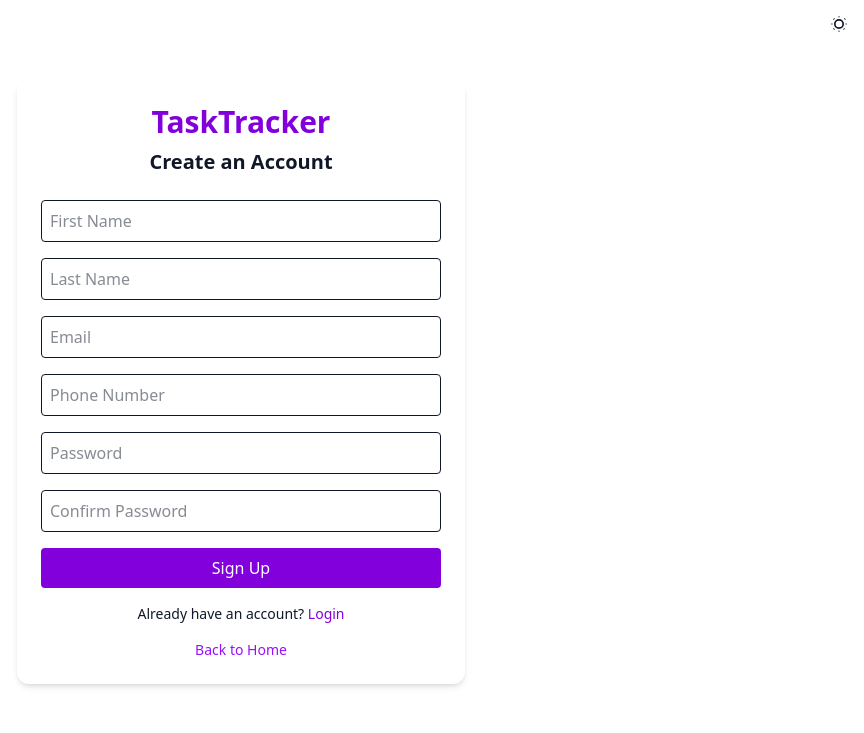
Test case: SignupPage › shows client-side validation error when passwords do not match
This screenshot has width=864, height=733.
Type "Test" into the field with placeholder "First Name" at x=241, y=221, box [41,200,441,242]
Type "User" into the field with placeholder "Last Name" at x=241, y=279, box [41,258,441,300]
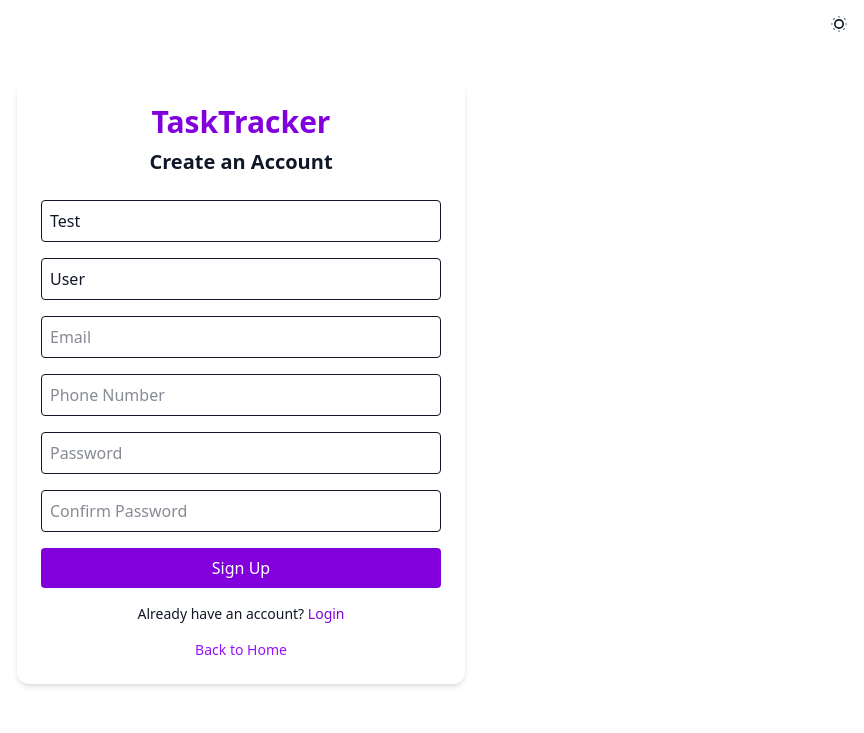
Type "test@example.com" into the field with placeholder "Email" at x=241, y=337, box [41,316,441,358]
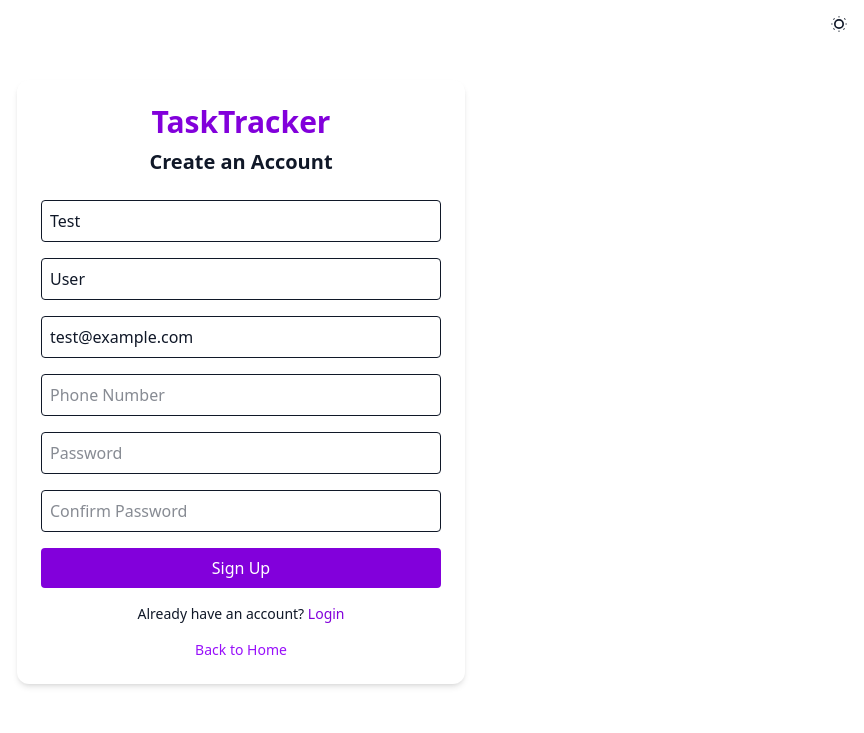
Type "1234567890" into the field with placeholder "Phone Number" at x=241, y=395, box [41,374,441,416]
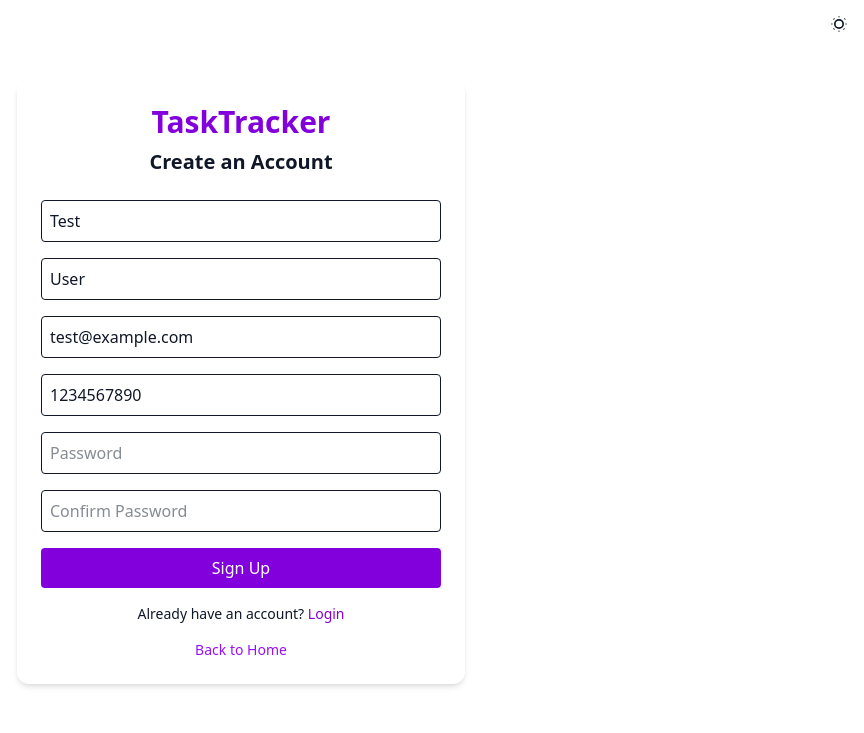
Type "Password123!" into the password field with placeholder "Password" at x=241, y=453, box [41,432,441,474]
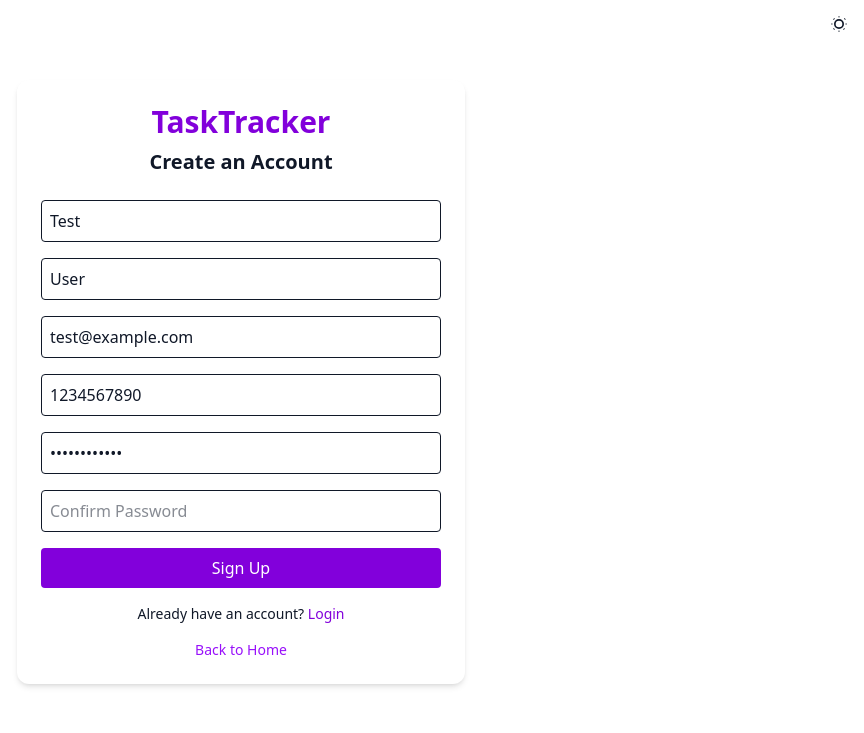
Type "DifferentPassword123!" into the password field with placeholder "Confirm Password" at x=241, y=511, box [41,490,441,532]
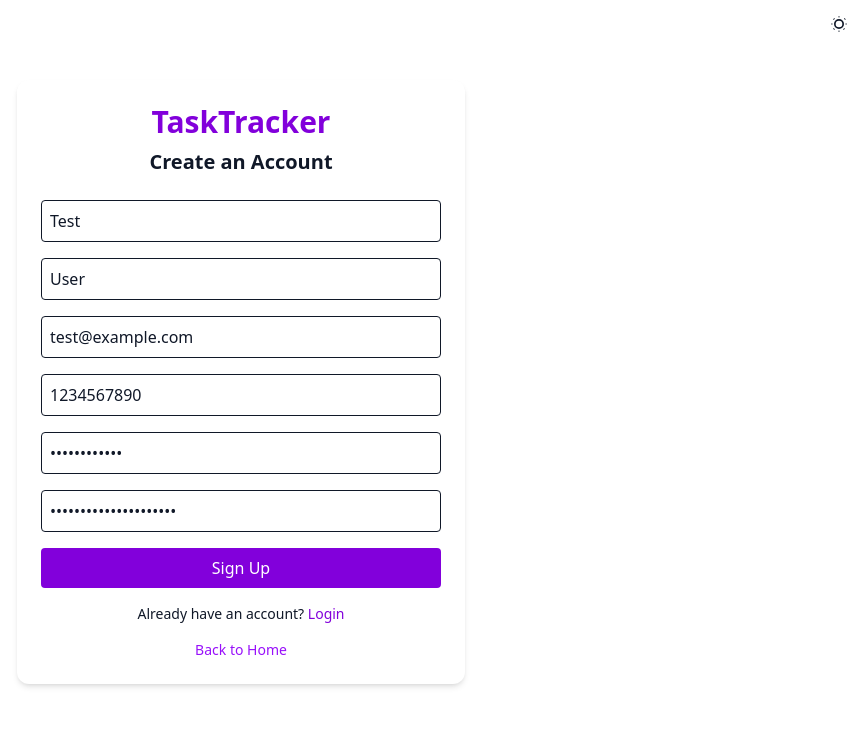
Submit the form "Sign Up Already have an account? Login", box [41,200,441,624]
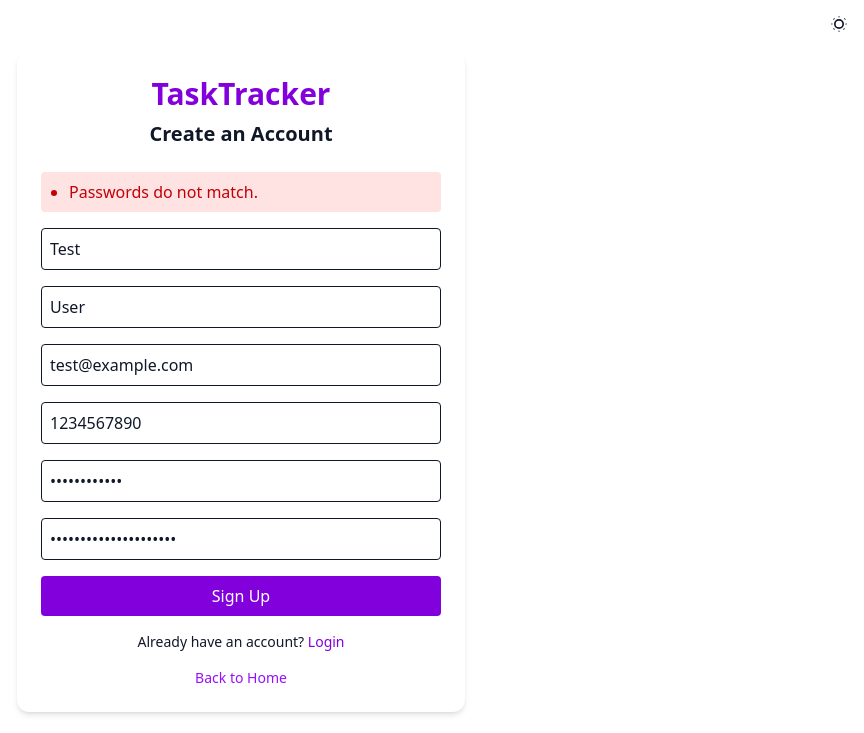
Now the list item "Passwords do not match." is shown, box [69,181,258,203]
